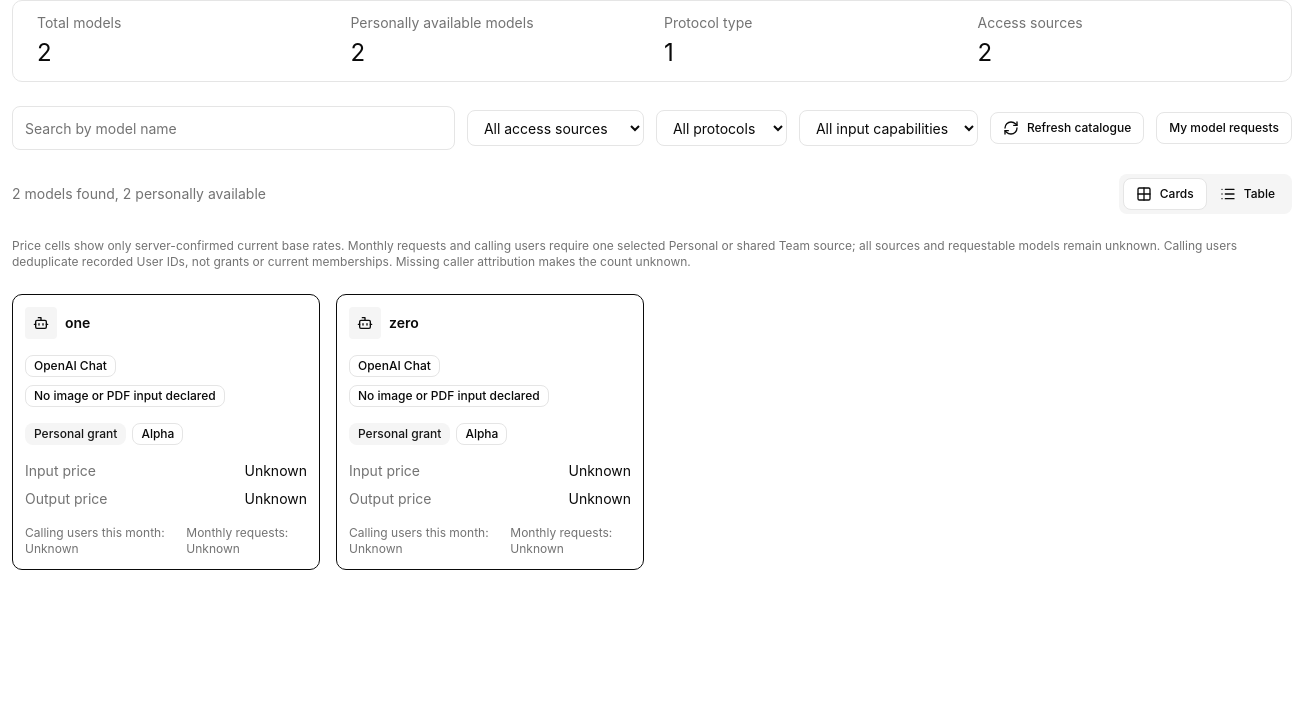
Test: source-scoped catalogue monthly request facts › keeps All/requestable unknown and reads one complete Personal report for every row
Expected: the number of list items is 2, x1=12 y1=294 x2=320 y2=570; x1=336 y1=294 x2=644 y2=570
Expected: the list item with aria-label "Open API access for one" shows "Monthly requests: Unknown", x1=12 y1=294 x2=320 y2=570
Select "Personal grant" in the dropdown named "Access source": (555, 128) x1=467 y1=110 x2=644 y2=146
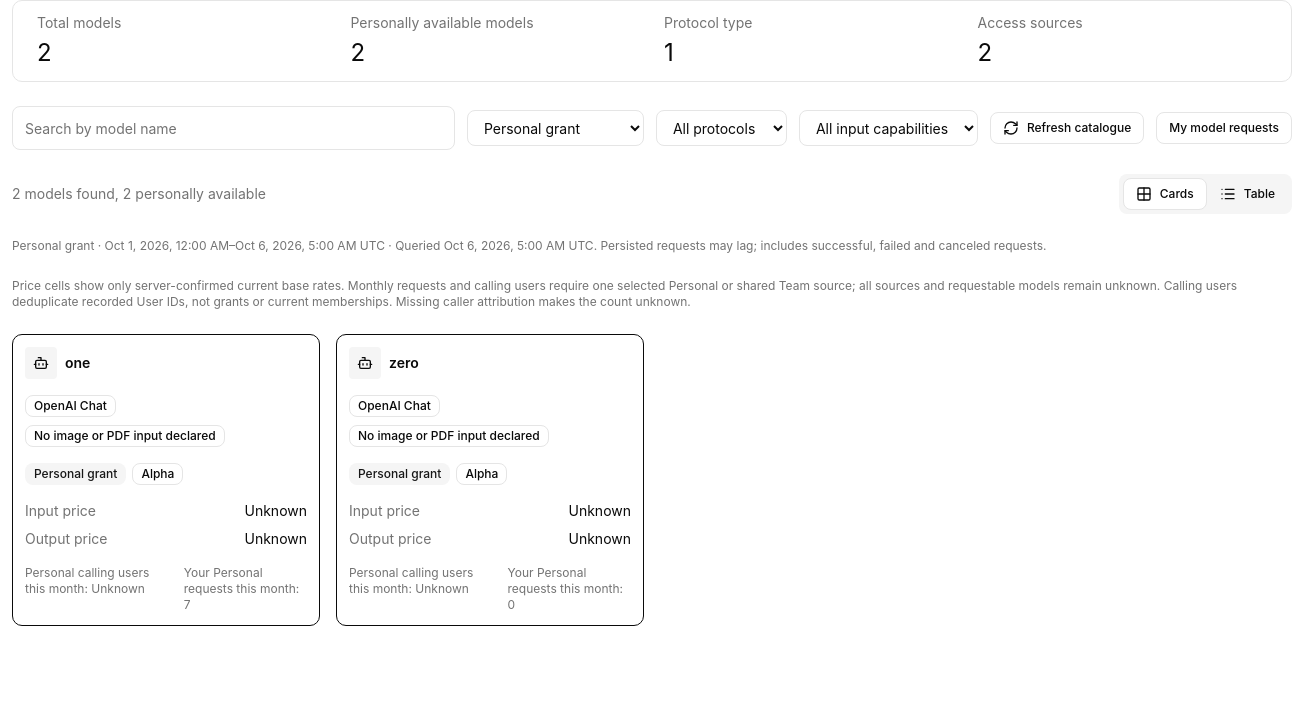
Expected: the list item with aria-label "Open API access for one" shows "Your Personal requests this month: 7", x1=12 y1=334 x2=320 y2=626
Expected: the list item with aria-label "Open API access for zero" shows "Your Personal requests this month: 0", x1=336 y1=334 x2=644 y2=626
Expected: the text "Oct 1, 2026" is shown, x1=12 y1=238 x2=1046 y2=253
Select "Available to request" in the dropdown named "Access source": (555, 128) x1=467 y1=110 x2=644 y2=146
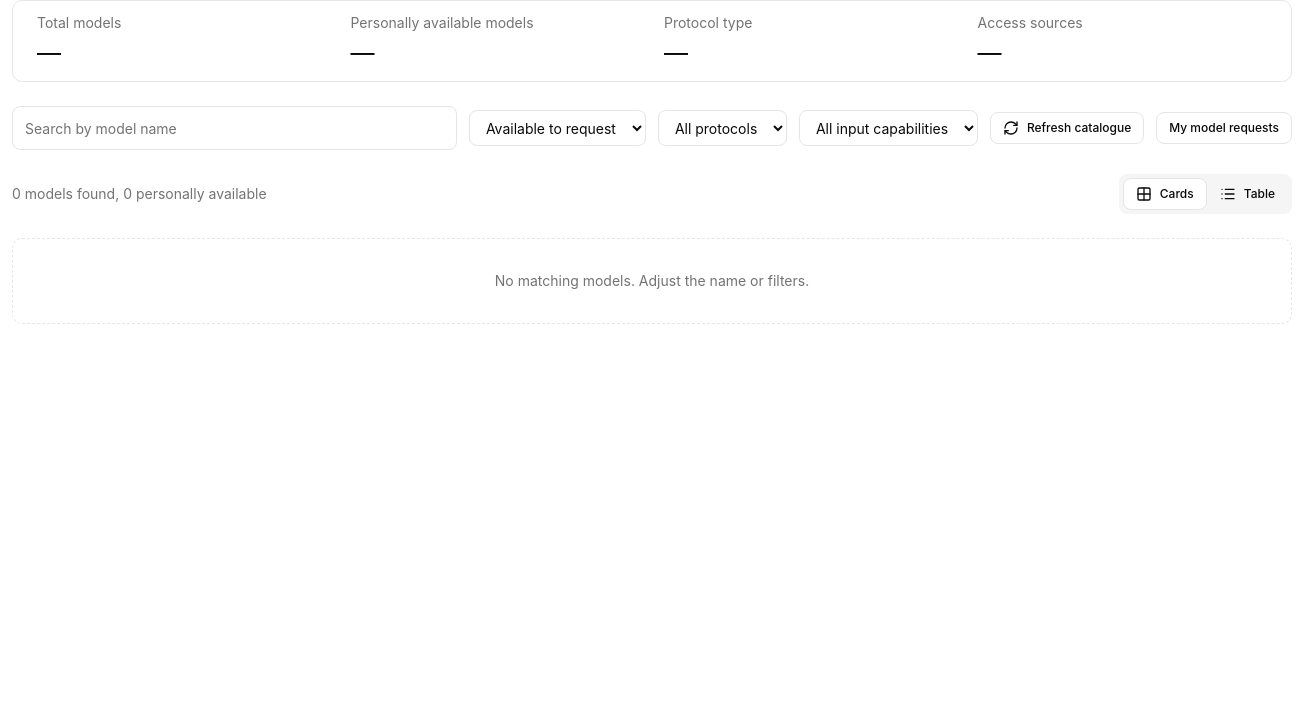
Expected: no list items are shown
